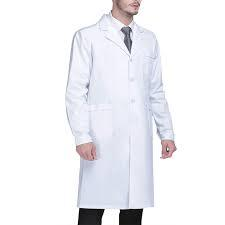Lab_coat: (64, 15, 187, 216)
